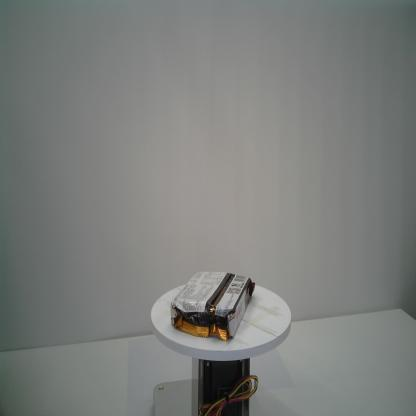Dessert: (170, 270, 256, 342)
